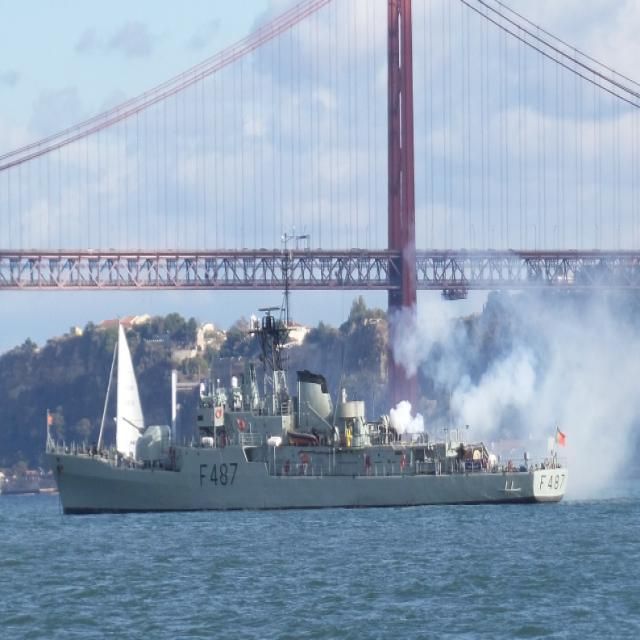Fragata: (42, 271, 577, 523)
